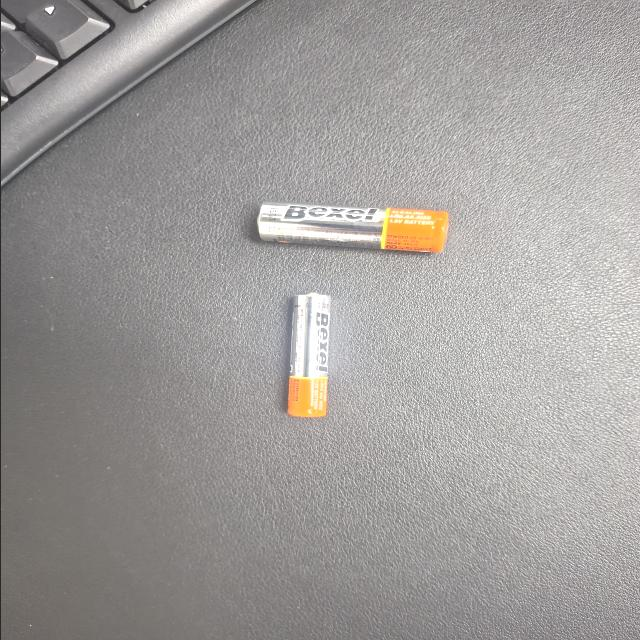AA: (305, 192, 370, 334)
AAA: (84, 215, 248, 248)
